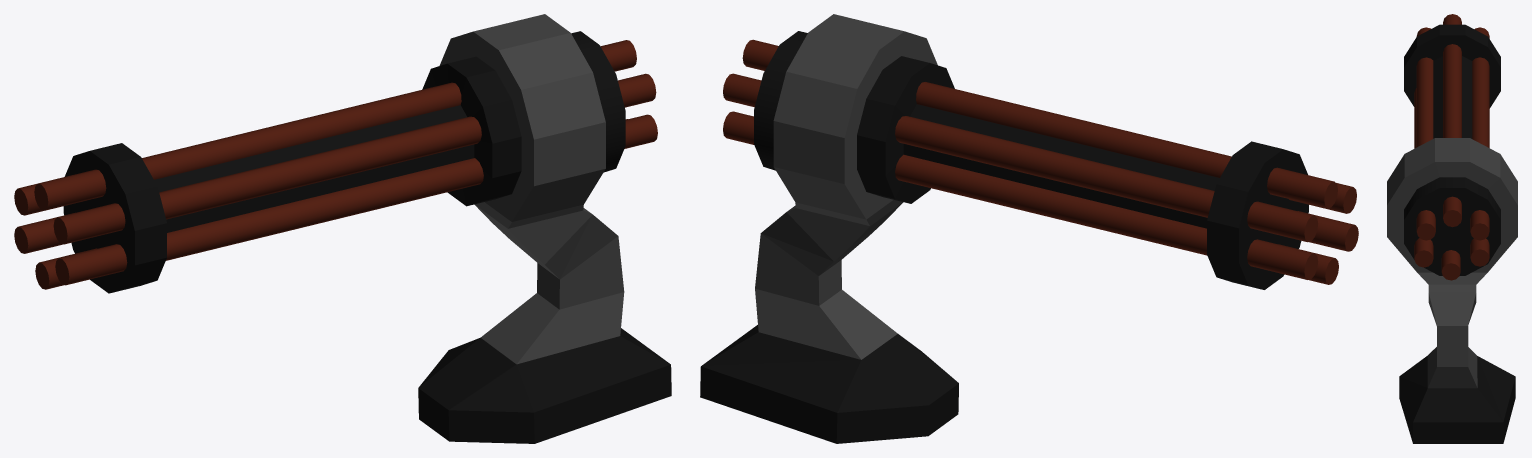
The model's file is Cherry_tree_turret.FBX.
3 renders of one model, left to right at view 1: azimuth 30°, elevation 25°; view 2: azimuth 150°, elevation 25°; view 3: azimuth 270°, elevation 25°, orthographic. The views are drawn at different scales.
Parts seen in each view (by area): view 1: Canon; view 2: Canon; view 3: Canon.
Part boxes in pixels (bbox=[...]): Canon: bbox=[14, 14, 671, 443]; Canon: bbox=[700, 14, 1358, 443]; Canon: bbox=[1387, 14, 1517, 443].
Size of the model in its own units: 59.8 by 16.52 by 35.8.
